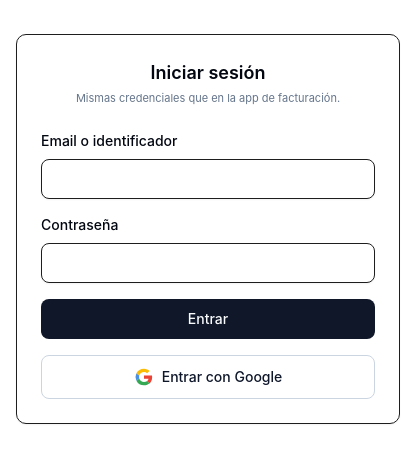
Test: LoginPage OAuth Google › shows non-blocking message on popup cancel
Click the button "Entrar con Google" at (208, 377), box [41,355,375,399]
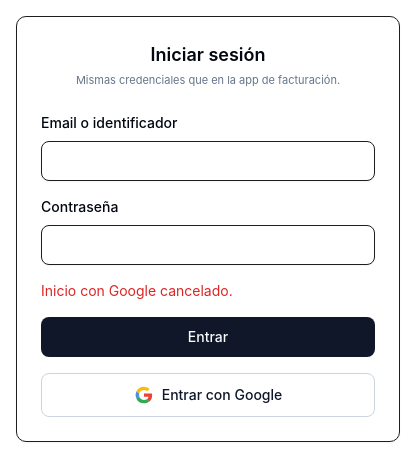
Expected: the text "Inicio con Google cancelado." is shown, [41,282,233,299]
